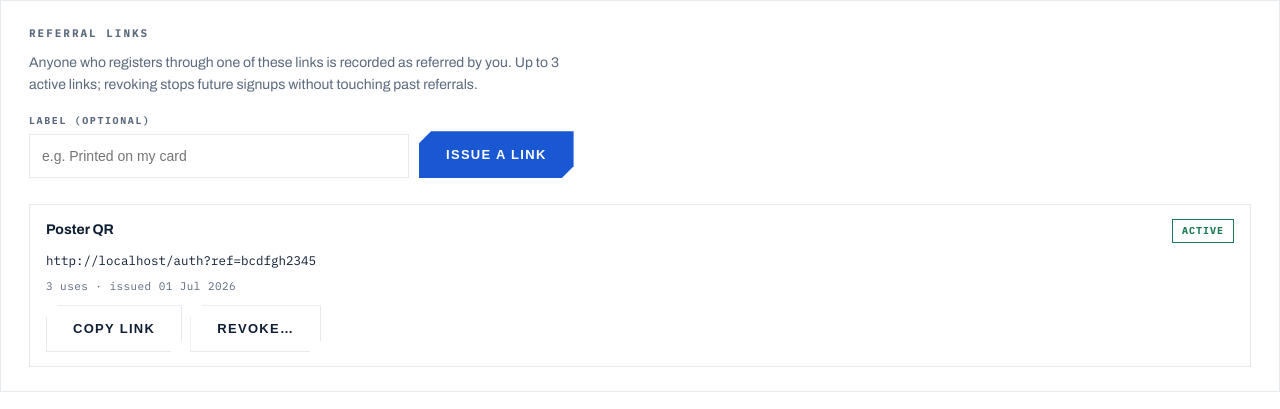
Scenario: ReferralLinksCard — unlocked › COPY LINK writes the full URL to the clipboard
The width and height of the screenshot is (1280, 409).
Click the button with test id "reflink-copy" at x=114, y=329, box [46,305,182,352]
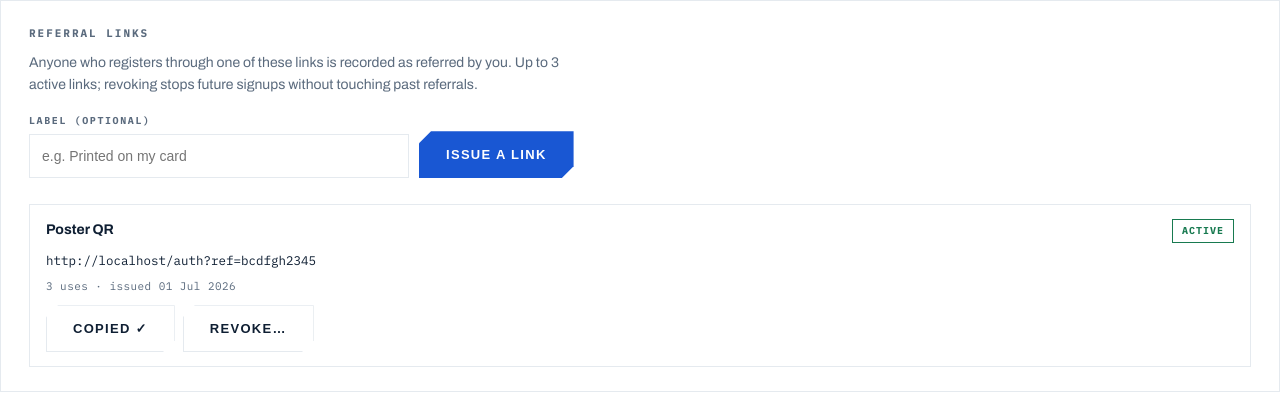
Check: the button "Copied ✓" is shown, box [46,305,175,352]
